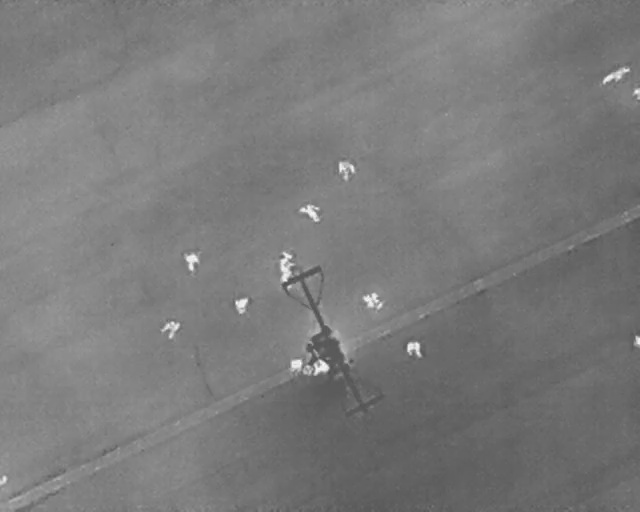Person: (597, 63, 633, 89), (297, 197, 327, 227), (358, 287, 387, 315), (159, 320, 179, 341), (182, 252, 200, 274), (279, 251, 297, 272), (337, 160, 354, 181), (407, 341, 423, 360), (313, 359, 329, 375), (278, 272, 293, 289), (235, 297, 250, 314), (288, 358, 303, 374), (632, 87, 640, 99), (634, 334, 639, 350)
